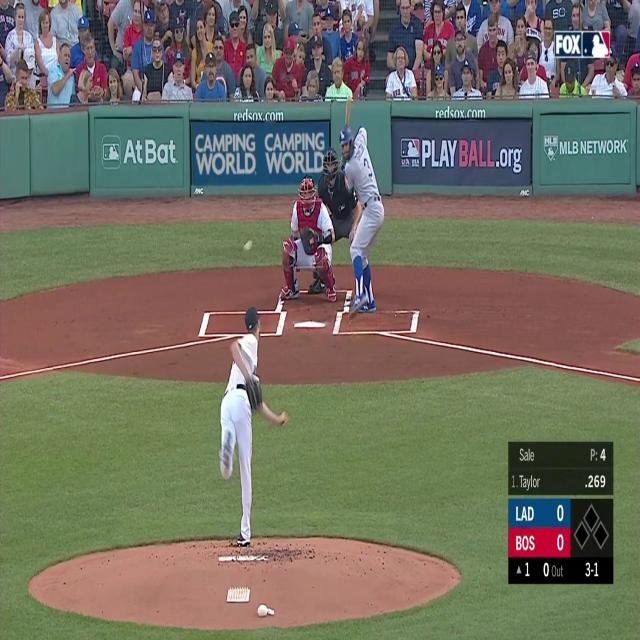baseball: (243, 239, 252, 252)
